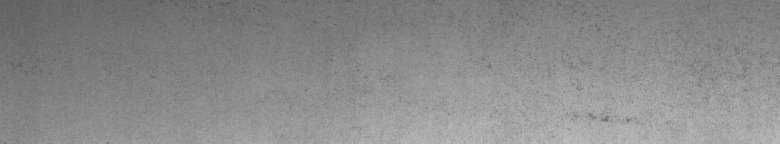ib: (569, 61, 639, 124)
